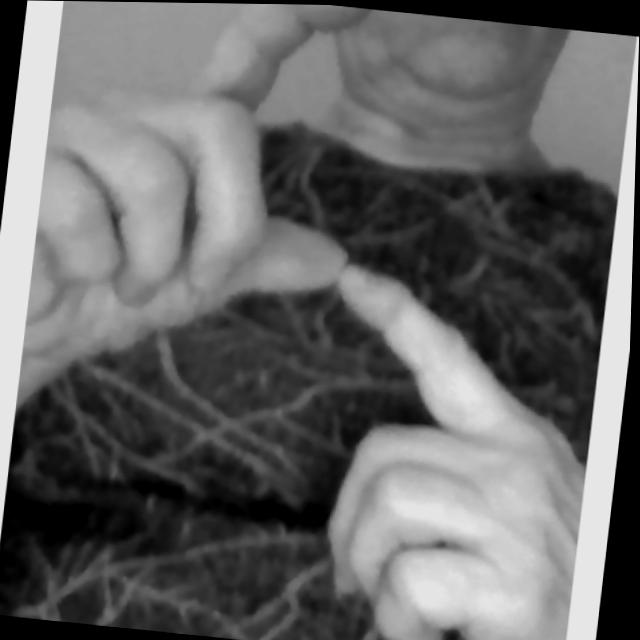S_: (0, 0, 637, 640)
